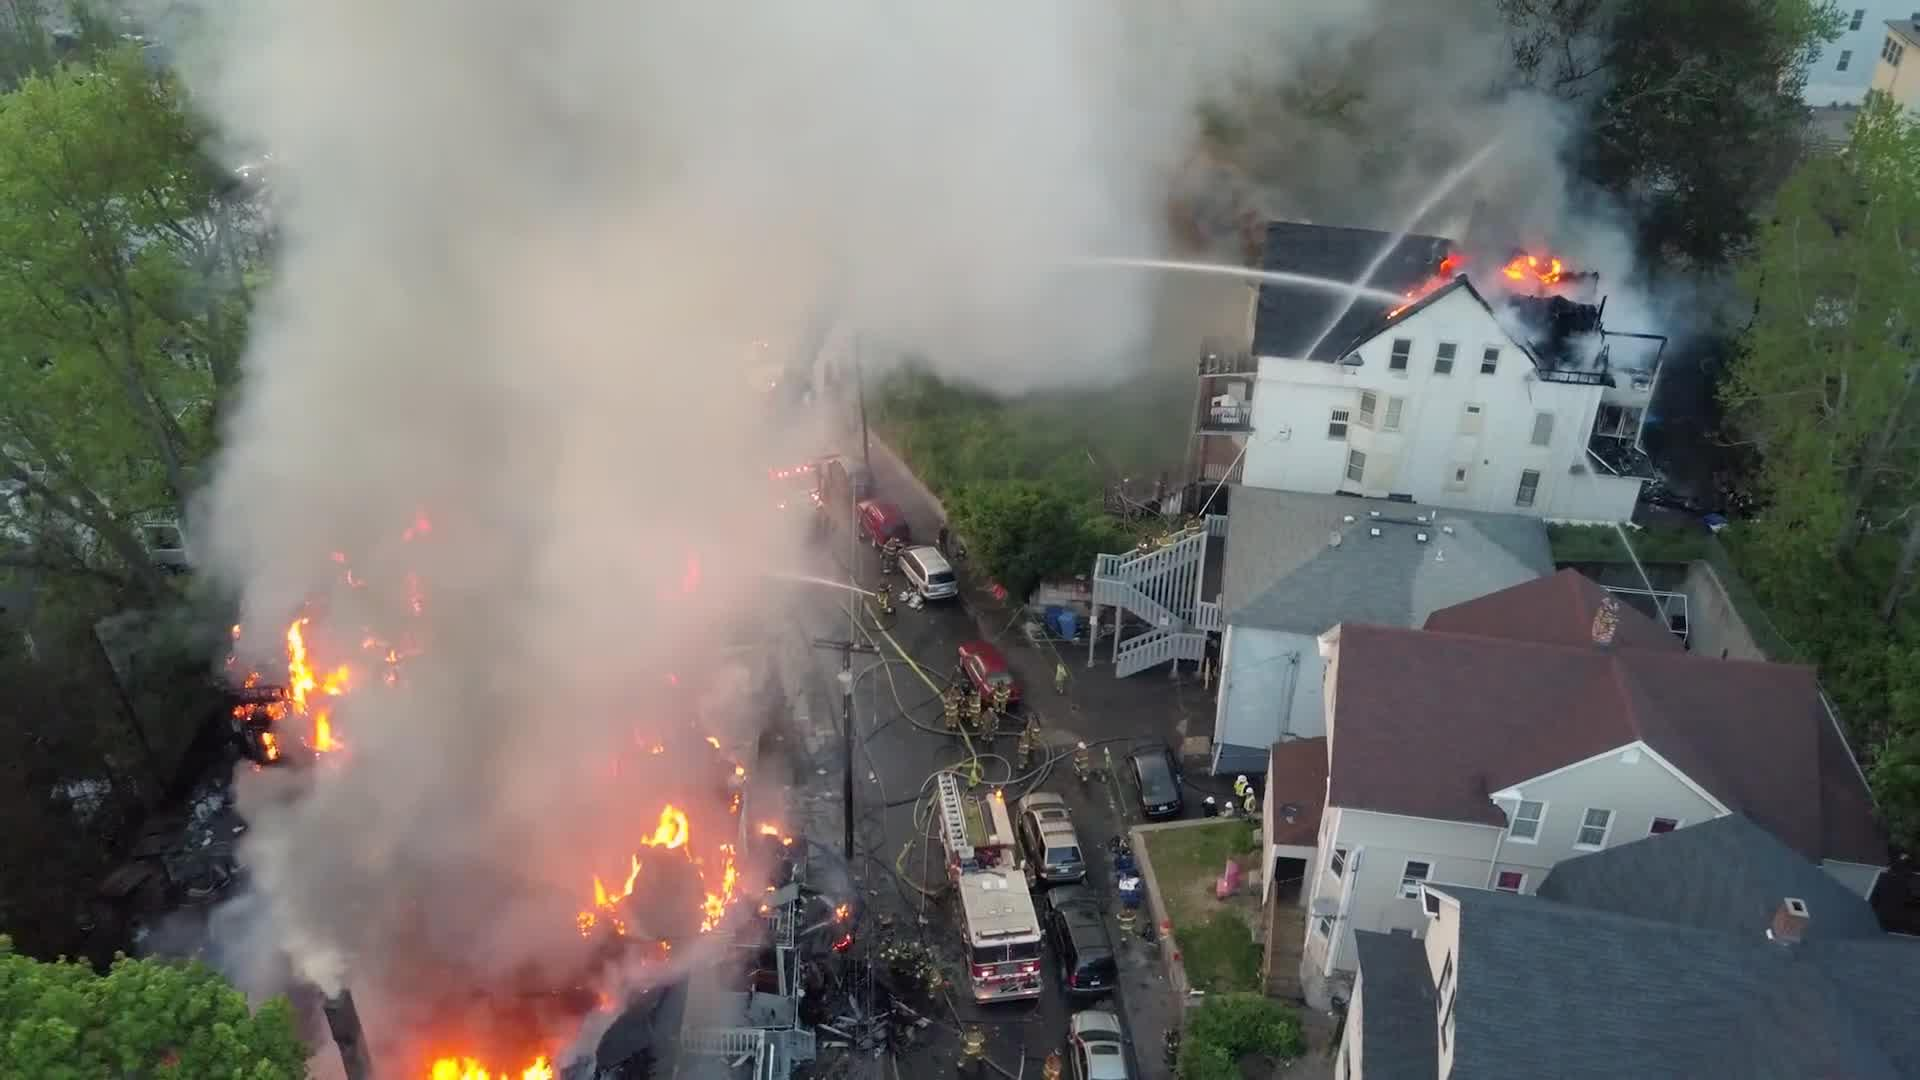smoke: (298, 36, 592, 928), (608, 36, 1108, 364), (605, 397, 733, 740)
